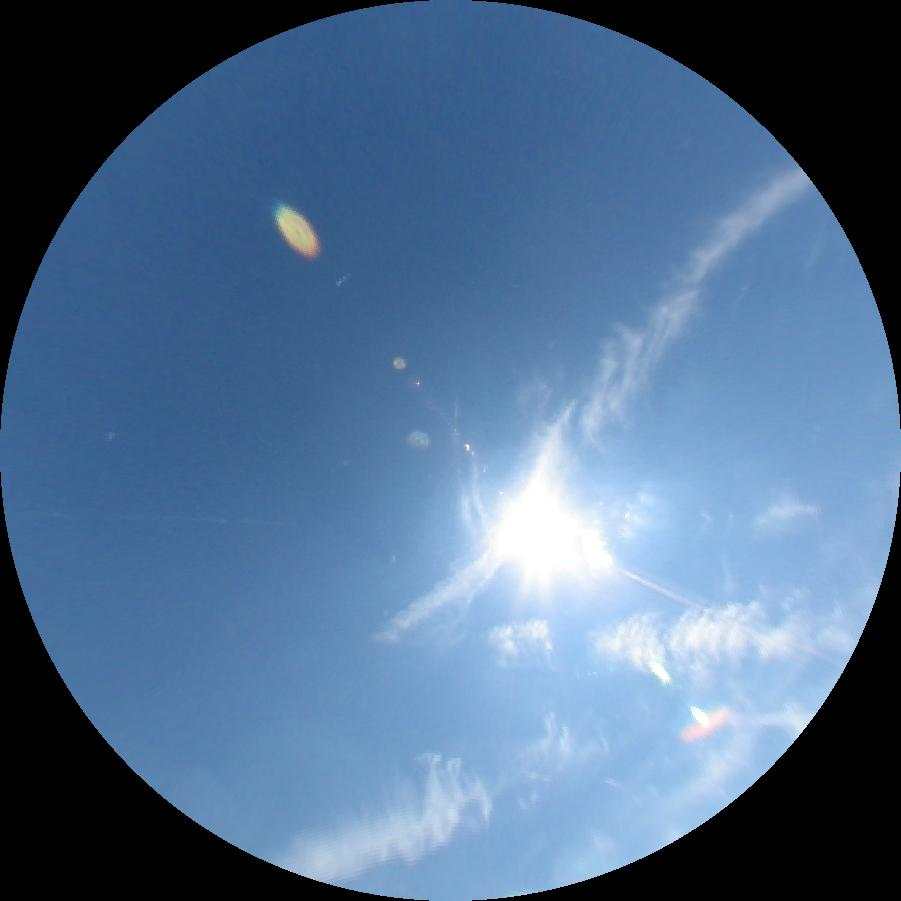contrail veryold: (367, 165, 815, 644), (276, 752, 492, 884), (488, 602, 789, 663)
parasite: (615, 566, 712, 612)
sun: (513, 508, 582, 564)
